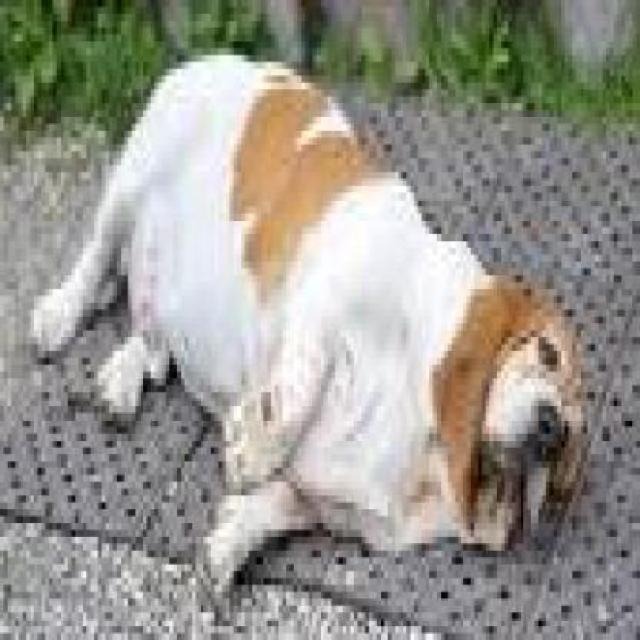Dog: (22, 51, 596, 615)
